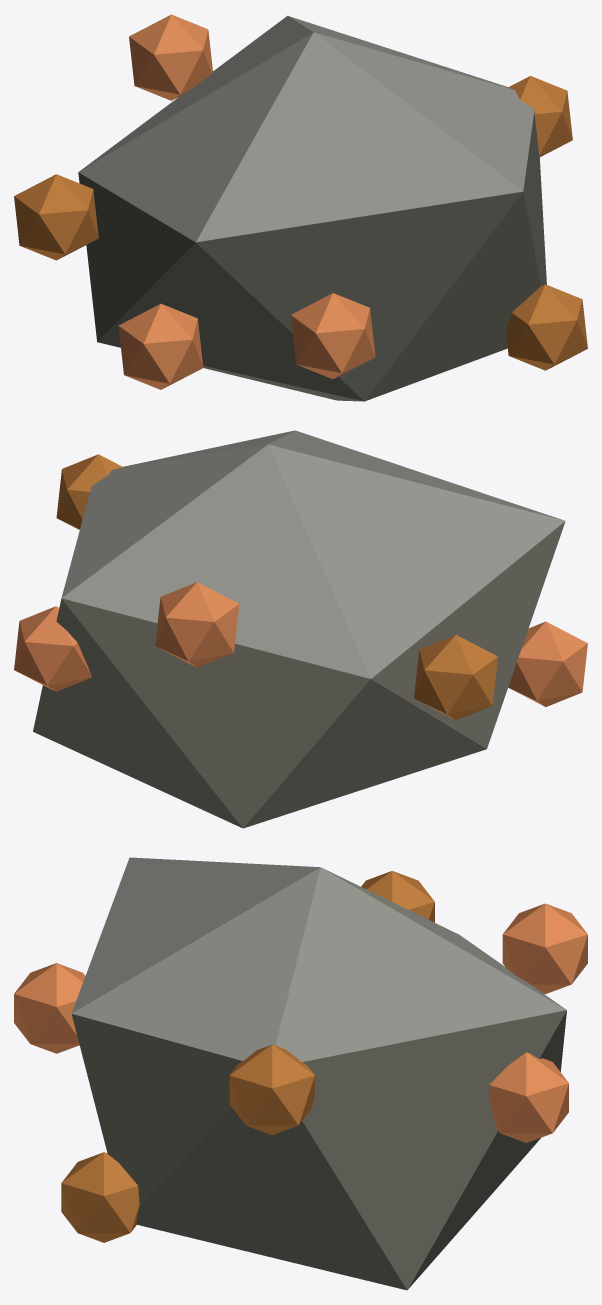
File: CopperOre.fbx
The picture shows the model from 3 angles, top to bottom: view 1: azimuth 30°, elevation 25°; view 2: azimuth 150°, elevation 25°; view 3: azimuth 270°, elevation 25°; orthographic projection. The views are drawn at different scales.
Visible parts, largest first — view 1: CopperOre; view 2: CopperOre; view 3: CopperOre.
Boxes of the visible parts, <box> form: CopperOre: <box>14,14,587,401</box>; CopperOre: <box>14,430,587,828</box>; CopperOre: <box>14,857,587,1290</box>.
Bounding box in the file's own units: 3.8 × 2.68 × 3.66.
Materials: 1 (1 with a texture image).
